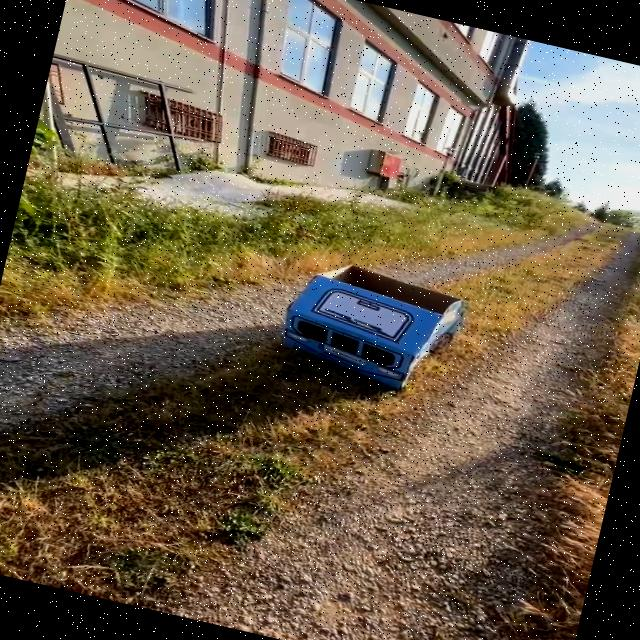blue_car: (207, 215, 510, 459)
